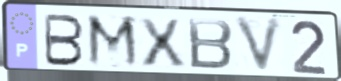2: (290, 19, 328, 77)
B: (185, 17, 235, 72), (43, 12, 86, 68)
M: (85, 13, 142, 71)
V: (231, 16, 286, 77)
X: (136, 16, 189, 69)
